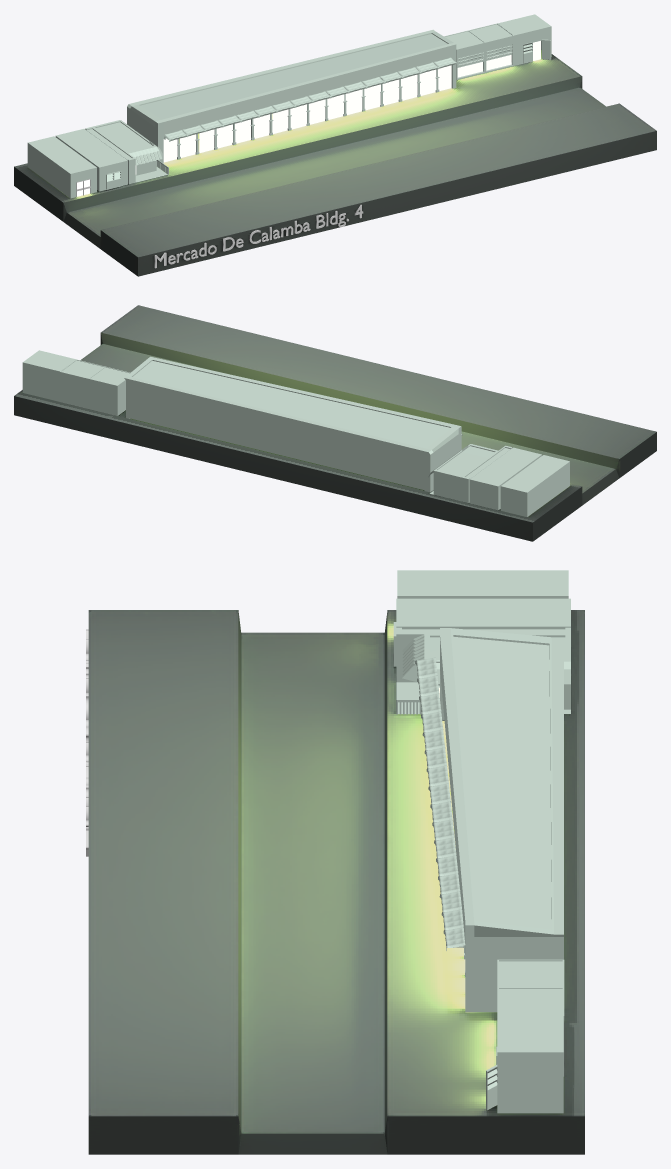
The picture shows the model from 3 angles, top to bottom: view 1: azimuth 30°, elevation 25°; view 2: azimuth 150°, elevation 25°; view 3: azimuth 270°, elevation 25°; orthographic projection. The views are drawn at different scales.
Visible parts, largest first — view 1: RoadMap, Cube.019, Cube.004, Toilet, Gen, Ice, Text, Stall, Stall.001, 2; view 2: RoadMap, Cube.019, Cube.004, Toilet, Gen, Ice, Stall.001, Stall; view 3: RoadMap, Cube.019, Ice, Gen, Cube.004, Toilet, Stall, Stall.001.
Boxes of the visible parts, x1,y1,x2,y2 form: RoadMap: (14, 49, 656, 276); Cube.019: (127, 29, 456, 163); Cube.004: (27, 136, 96, 198); Toilet: (85, 120, 168, 184); Gen: (55, 129, 127, 191); Ice: (497, 14, 551, 65); Text: (154, 204, 363, 268); Stall: (468, 23, 514, 72); Stall.001: (444, 30, 485, 79); 2: (419, 69, 436, 95); RoadMap: (14, 305, 656, 541); Cube.019: (124, 356, 462, 492); Cube.004: (500, 455, 569, 516); Toilet: (428, 444, 512, 502); Gen: (469, 447, 541, 510); Ice: (22, 350, 76, 401); Stall.001: (88, 366, 130, 415); Stall: (59, 359, 104, 408); RoadMap: (88, 610, 584, 1154); Cube.019: (415, 628, 563, 1012); Ice: (486, 1015, 563, 1113); Gen: (393, 598, 570, 666); Cube.004: (397, 570, 568, 598); Toilet: (396, 627, 570, 714); Stall: (497, 987, 564, 1076); Stall.001: (497, 959, 564, 987).
Bounding box in the file's own units: 16.6 × 1.92 × 6.92.
Materials: 9 (1 with a texture image).
